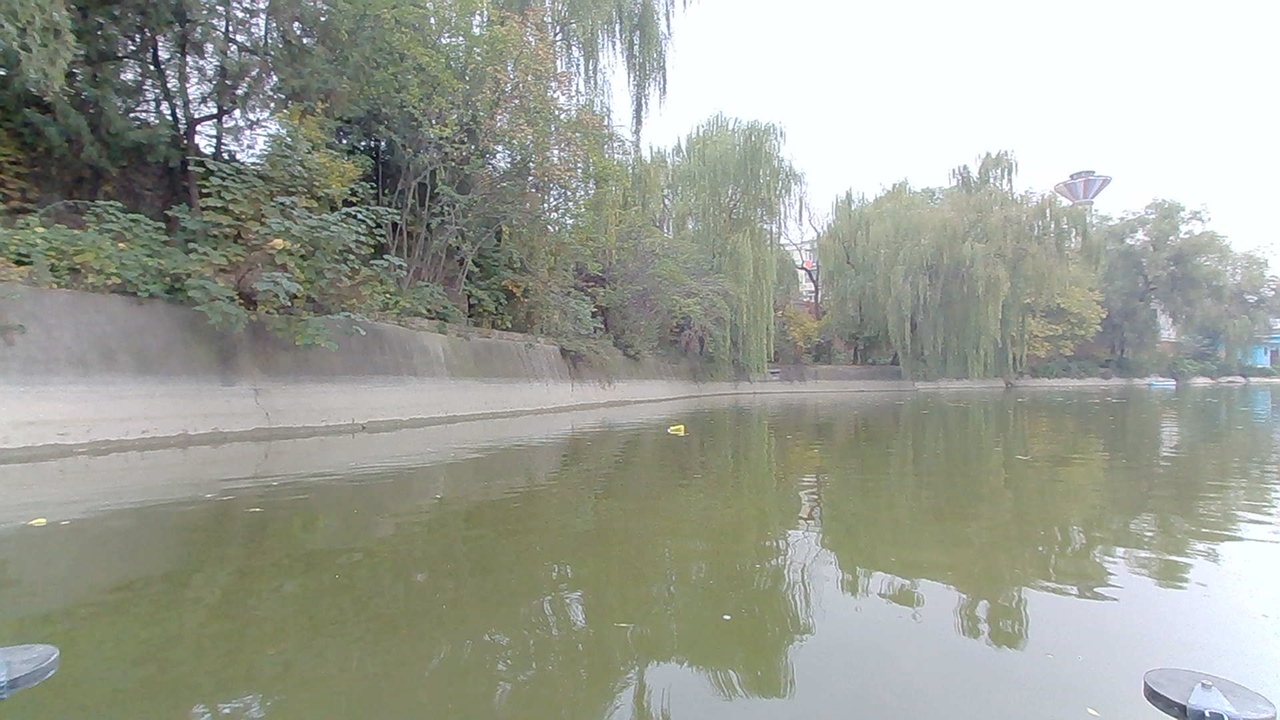bottle: (662, 418, 696, 441)
